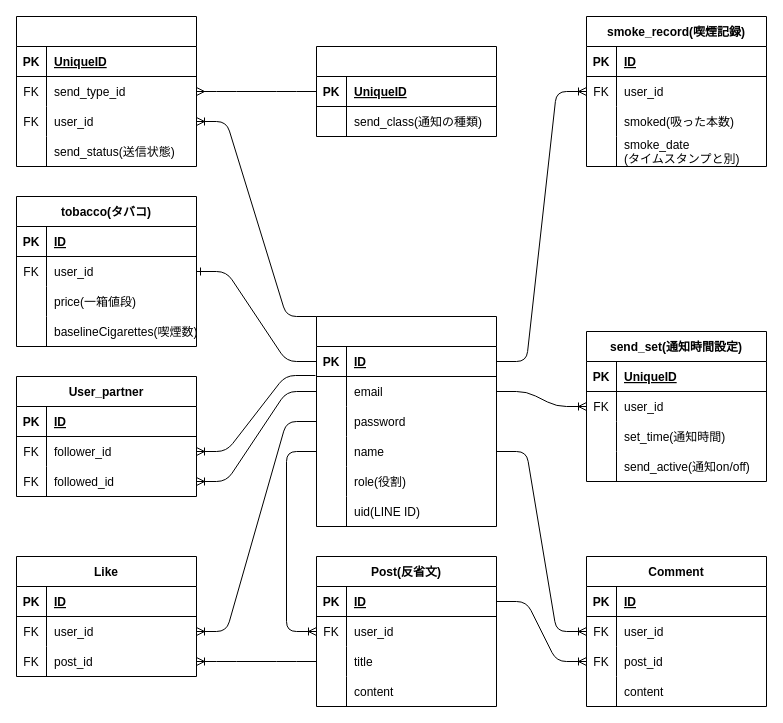
Image size: 783x723. Some labels were removed from this diagram. The shapes that lost their labels are listed below. From the top down, each one's box as (x1, y1, x2, y2) in pixels, then its label:
(16, 16, 196, 166): send_history(通知履歴)
(316, 46, 496, 136): send_type (通知種類)
(316, 316, 496, 526): User
